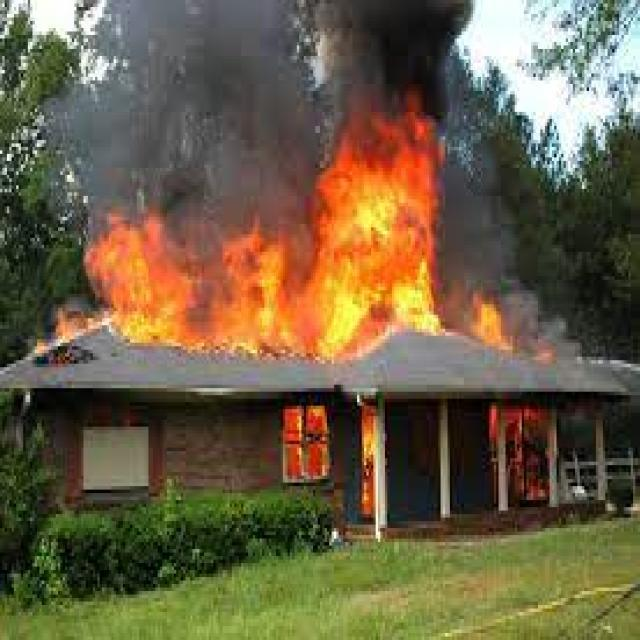Fire: (106, 229, 327, 360), (324, 120, 442, 340)
Smoke: (74, 6, 473, 196), (432, 188, 588, 364), (90, 169, 327, 248)
